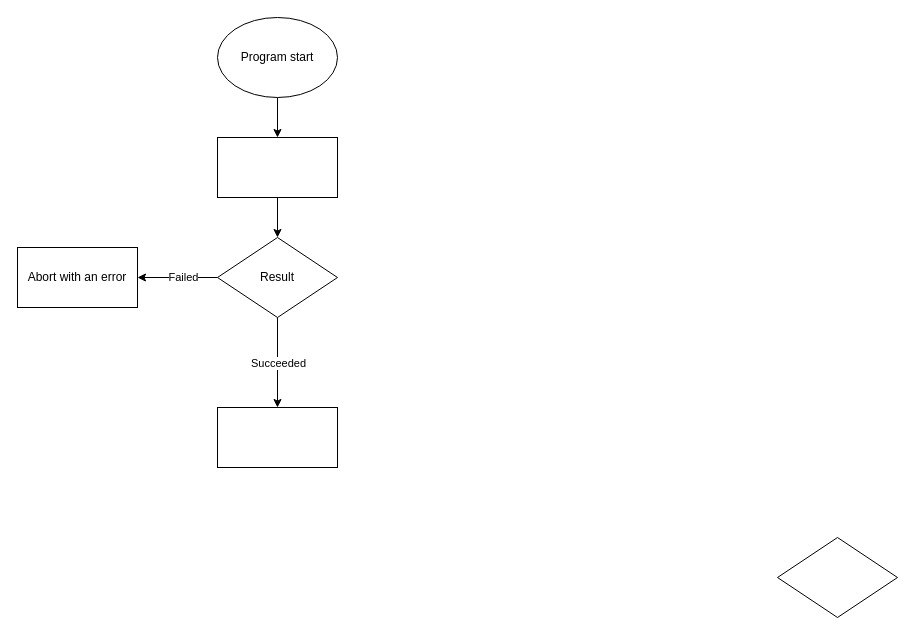
Image size: 915x635. Some labels were removed from this diagram. The box of each missing label's shape, as (x1, y1, x2, y2) in pixels:
Initialize WSA: (216, 136, 338, 198)
initialize_runtime(): (216, 406, 338, 468)
